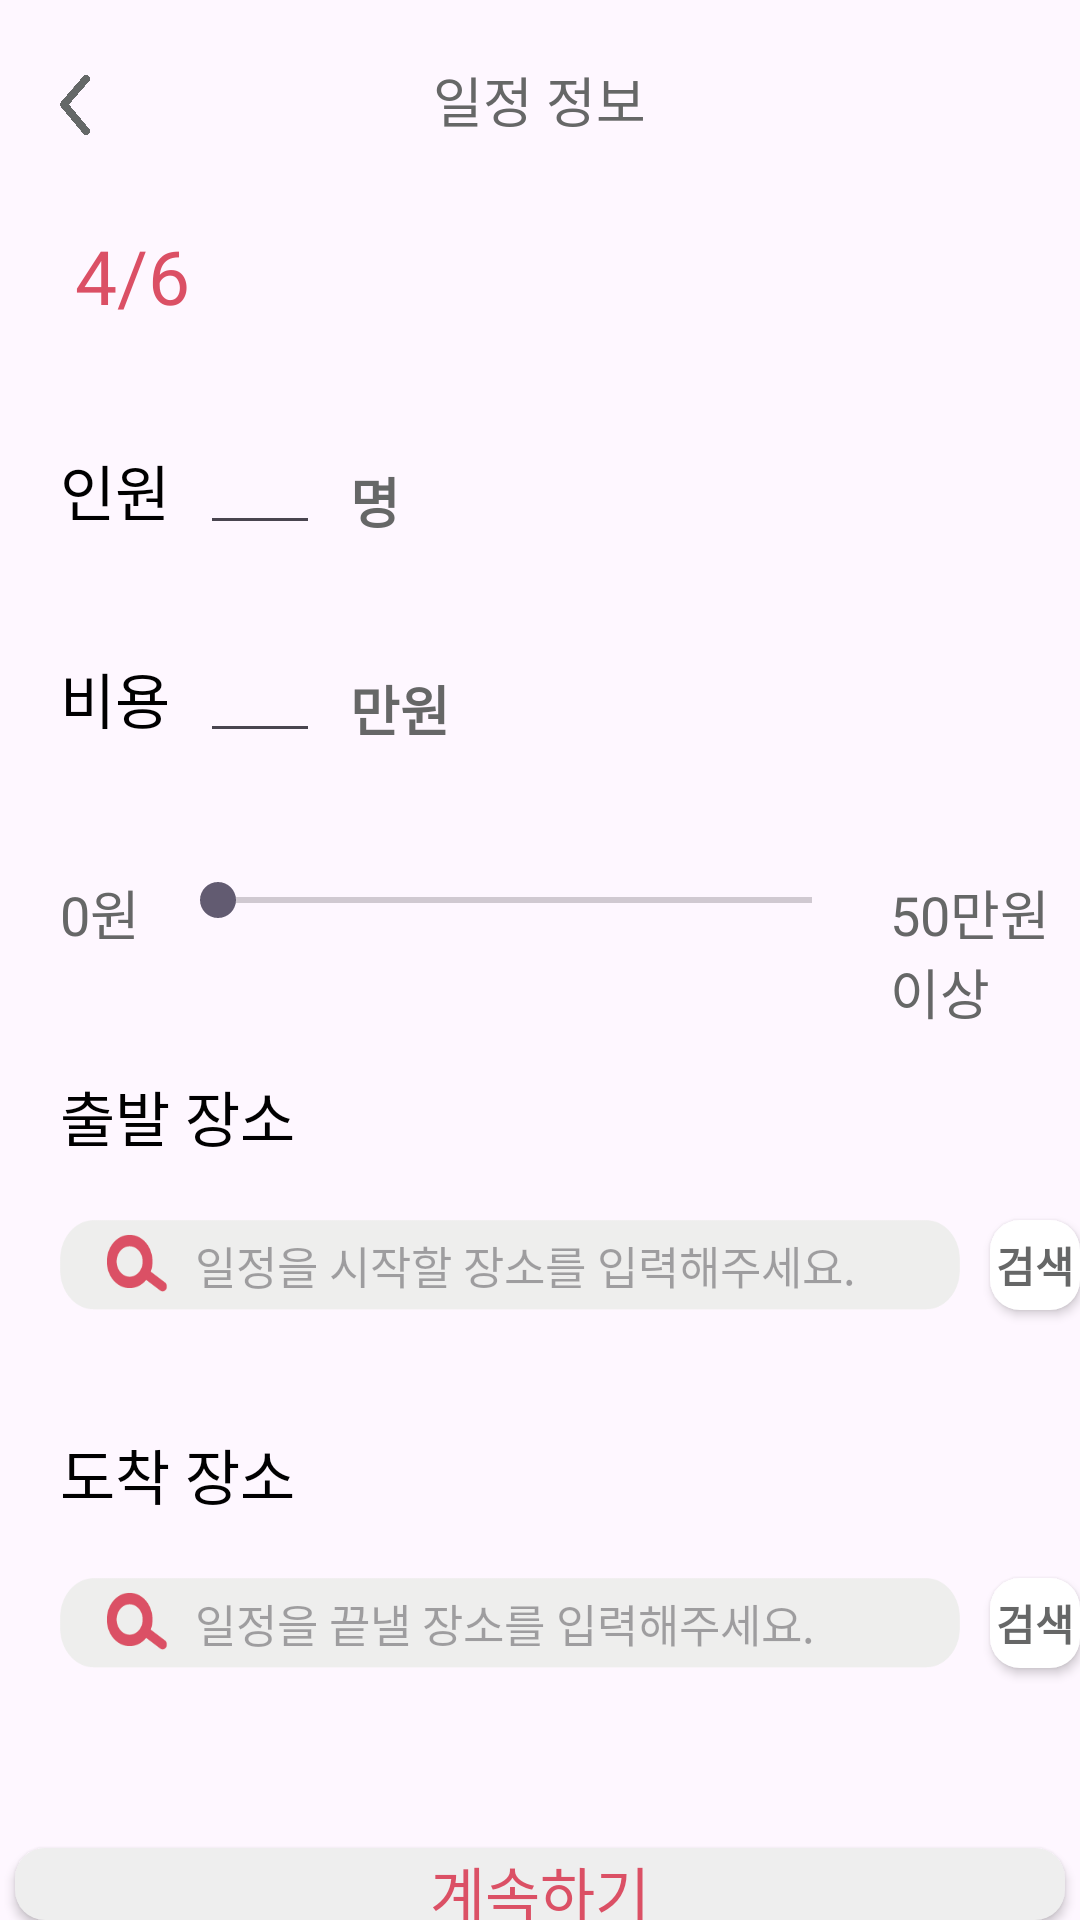

Named icons in this screenshot (1080×1920) and their bounding boxes, (x1, y1, x2, y2):
wlsback: (60, 75, 90, 135)
